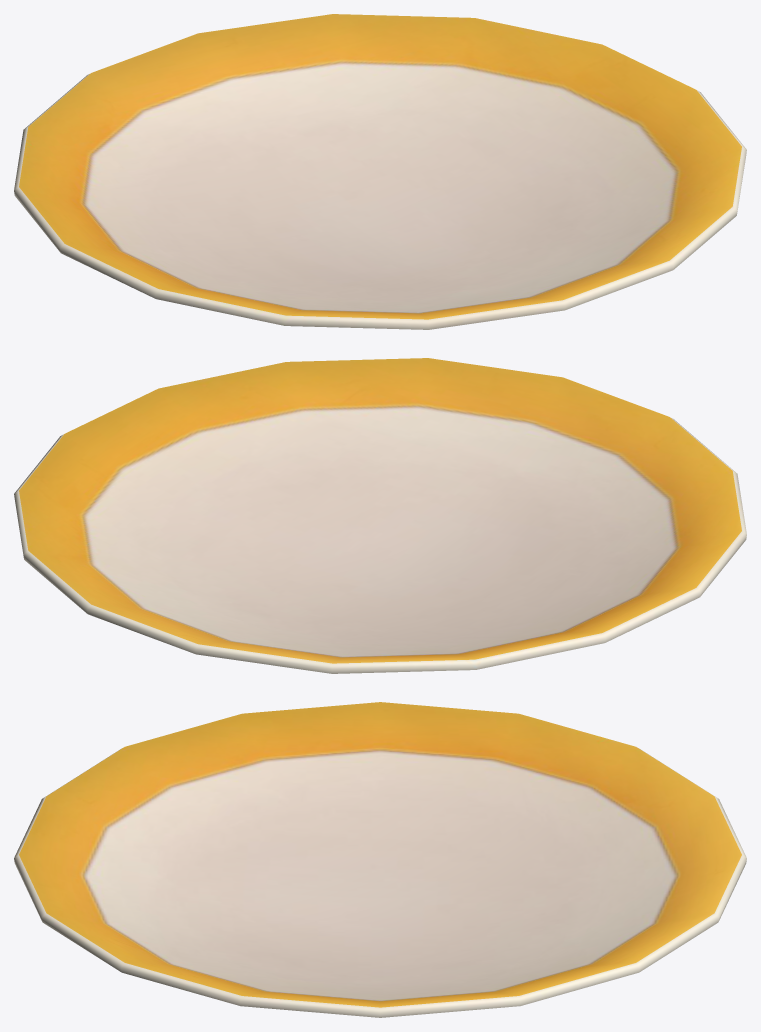
3 views of the same model, one above another, from view 1: azimuth 30°, elevation 25°; view 2: azimuth 150°, elevation 25°; view 3: azimuth 270°, elevation 25° (orthographic).
Parts seen in each view (by area): view 1: SE_Plate_01; view 2: SE_Plate_01; view 3: SE_Plate_01.
Boxes of the visible parts, box(x1,y1,x2,y2) form: SE_Plate_01: box(14, 14, 746, 329); SE_Plate_01: box(14, 358, 746, 673); SE_Plate_01: box(14, 702, 746, 1017).
Size of the model in its own units: 2.87 by 0.3672 by 2.87.
1 material, 1 textured.
